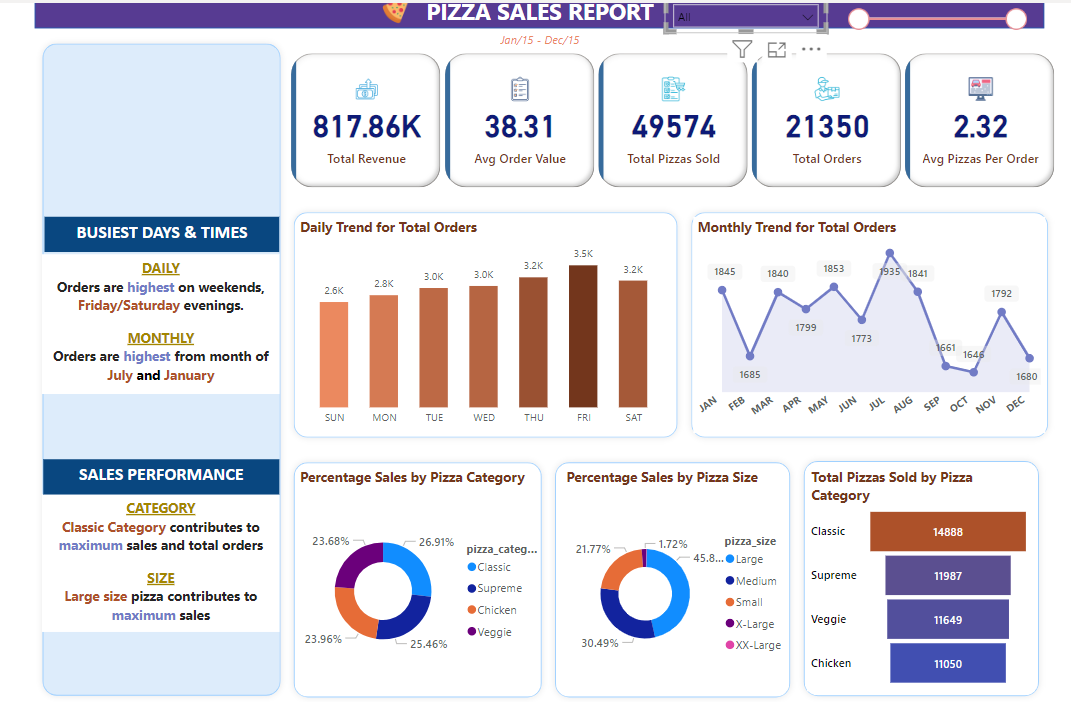

The page's visual inventory and layout, read from the dashboard file:
{"tool":"powerbi","page":{"name":"Page 1","canvas":[1280,880],"ordinal":0},"visuals":[{"type":"cardVisual","fields":{"Data":["pizza_sales.Total Revenue","pizza_sales.Avg Order Value","pizza_sales.Total Pizzas Sold","pizza_sales.Total Orders","pizza_sales.Avg Pizzas Per Order"]},"box":[341.7,108.3,910,168.3],"z":0},{"type":"shape","box":[44.5,19.5,1191,64],"z":1000},{"type":"textbox","box":[493.9,19.5,292.2,47.3],"z":2000},{"type":"textbox","box":[576,51.5,128,41.7],"z":3000},{"type":"image","box":[313,23.7,336.7,43.1],"z":4000},{"type":"shape","box":[341.7,291.7,468.3,281.7],"z":5000},{"type":"columnChart","title":"Daily Trend for Total Orders","fields":{"Category":["pizza_sales.Order Day"],"Y":["pizza_sales.Total Orders"]},"box":[351.7,305,445,255],"z":6000},{"type":"shape","box":[810,291.7,436.7,281.7],"z":7000},{"type":"areaChart","title":"Monthly Trend for Total Orders","fields":{"Category":["pizza_sales.Order Month"],"Y":["pizza_sales.Total Orders"]},"box":[821.7,305,415,255],"z":8000},{"type":"shape","box":[341.7,586.7,308.3,293.3],"z":9000},{"type":"shape","box":[650,586.7,293.3,293.3],"z":10000},{"type":"shape","box":[943.3,585,293.3,293.3],"z":11000},{"type":"donutChart","title":"Percentage Sales by Pizza Category","fields":{"Category":["pizza_sales.pizza_category"],"Y":["pizza_sales.Total Revenue"]},"box":[351.7,600,298.3,271.7],"z":12000},{"type":"donutChart","title":"Percentage Sales by Pizza Size","fields":{"Y":["pizza_sales.Total Revenue"],"Category":["pizza_sales.pizza_size"]},"box":[666.7,600,276.7,278.3],"z":13000},{"type":"funnel","title":"Total Pizzas Sold by Pizza Category","fields":{"Category":["pizza_sales.pizza_category"],"Y":["pizza_sales.Total Pizzas Sold"]},"box":[955,600,268.3,265],"z":14000},{"type":"shape","box":[45,93.3,296.7,785],"z":15000},{"type":"textbox","box":[56,305.1,277.1,41.3],"z":16000},{"type":"textbox","box":[53.1,349.3,280.1,165.1],"z":17000},{"type":"textbox","box":[53.1,632.4,280.1,162.1],"z":18000},{"type":"textbox","box":[54.5,591.1,278.6,41.3],"z":19000},{"type":"slicer","fields":{"Values":["pizza_sales.pizza_category"]},"box":[796.5,23.5,191.8,62.4],"z":20000},{"type":"slicer","fields":{"Values":["pizza_sales.order_date"]},"box":[988.2,0,235.3,114.1],"z":21000}]}

Visuals, with their boxes on the page's 1280x880 design canvas (x1, y1, x2, y2). These are canvas units, not pixel positions in the 1071x702 screenshot, which may show the page scaled, cropped or inside an application window:
cardVisual - pizza_sales.Total Revenue x pizza_sales.Avg Order Value: (342,108,1252,277)
shape: (44,20,1236,84)
textbox: (494,20,786,67)
textbox: (576,52,704,93)
image: (313,24,650,67)
shape: (342,292,810,573)
"Daily Trend for Total Orders" columnChart: (352,305,797,560)
shape: (810,292,1247,573)
"Monthly Trend for Total Orders" areaChart: (822,305,1237,560)
shape: (342,587,650,880)
shape: (650,587,943,880)
shape: (943,585,1237,878)
"Percentage Sales by Pizza Category" donutChart: (352,600,650,872)
"Percentage Sales by Pizza Size" donutChart: (667,600,943,878)
"Total Pizzas Sold by Pizza Category" funnel: (955,600,1223,865)
shape: (45,93,342,878)
textbox: (56,305,333,346)
textbox: (53,349,333,514)
textbox: (53,632,333,794)
textbox: (54,591,333,632)
slicer - pizza_sales.pizza_category: (796,24,988,86)
slicer - pizza_sales.order_date: (988,0,1224,114)
